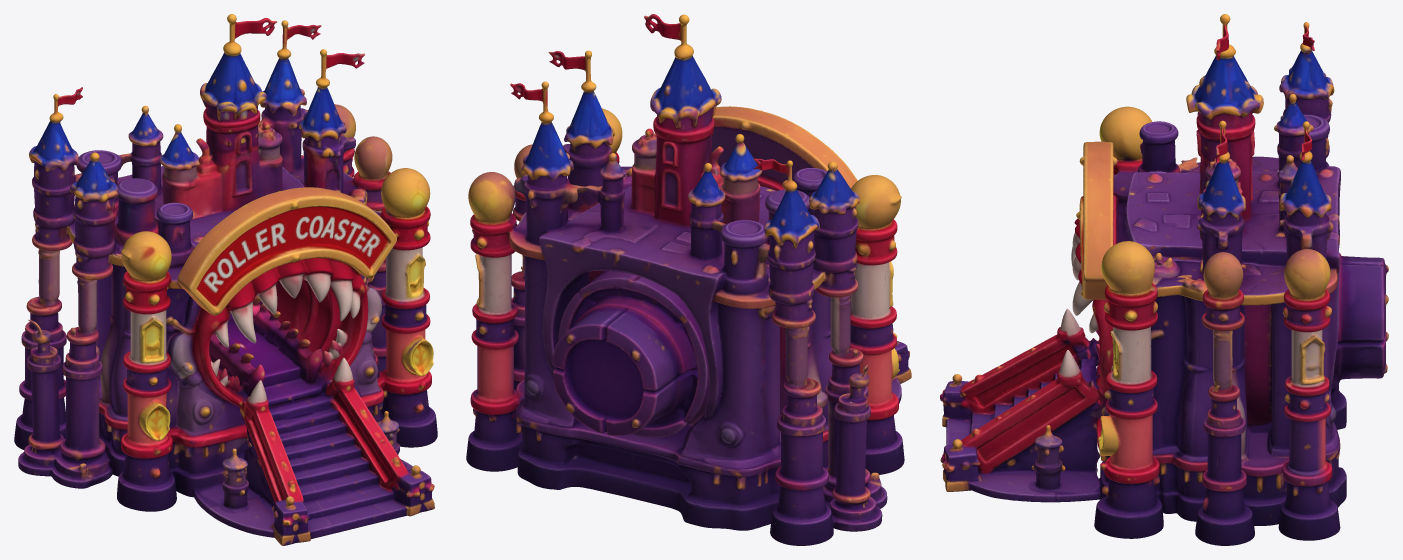
The model's file is Meshy_AI_Fanged_Castle_Roller__1021080508_texture.fbx.
The picture shows the model from 3 angles, left to right: view 1: azimuth 30°, elevation 25°; view 2: azimuth 150°, elevation 25°; view 3: azimuth 270°, elevation 25°; orthographic projection. The views are drawn at different scales.
Visible parts, largest first — view 1: Mesh_0; view 2: Mesh_0; view 3: Mesh_0.
Boxes of the visible parts, box(x1,y1,x2,y2) form: Mesh_0: box(14, 14, 437, 545); Mesh_0: box(466, 14, 911, 545); Mesh_0: box(940, 14, 1388, 545).
Bounding box in the file's own units: 169 × 185 × 169.
Materials: 1 (1 with a texture image).
